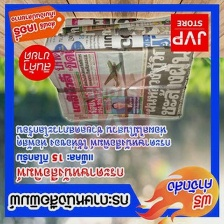news_paper: (41, 17, 199, 122)
